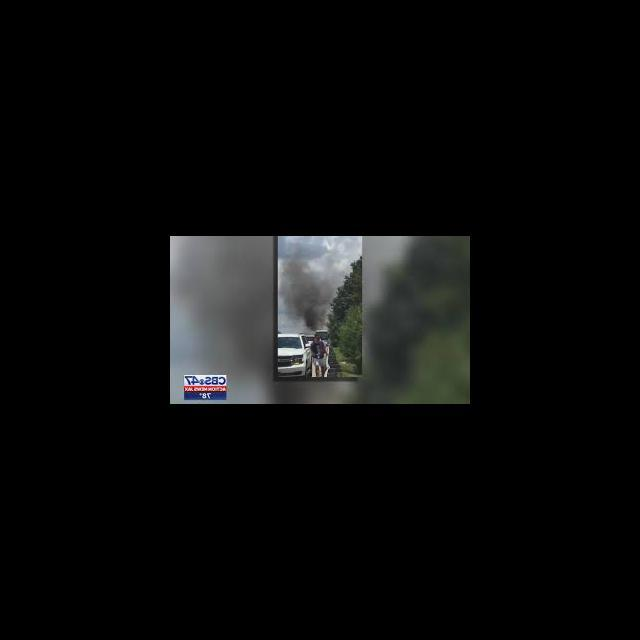Smoke: (280, 256, 332, 331)
